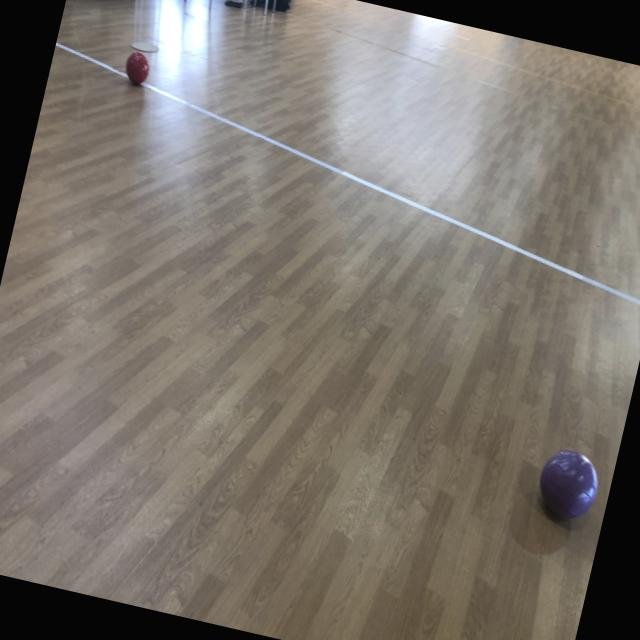purple_ball: (533, 444, 605, 526)
red_ball: (123, 48, 152, 86)
